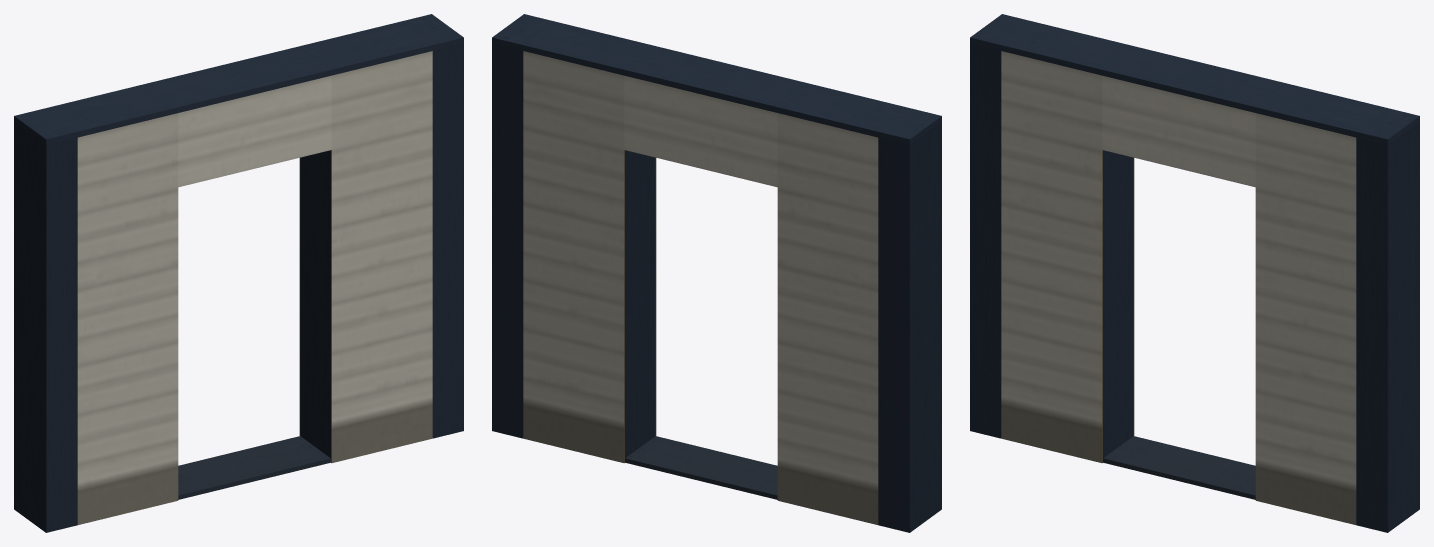
Rendered from house_05_wall_doorway.glb.
3 views of the same model, side by side, from view 1: azimuth 30°, elevation 25°; view 2: azimuth 150°, elevation 25°; view 3: azimuth 330°, elevation 25° (orthographic).
Parts seen in each view (by area): view 1: outdoor_house_05_wall_doorway; view 2: outdoor_house_05_wall_doorway; view 3: outdoor_house_05_wall_doorway.
Part boxes in pixels (x1,y1,x2,y2): outdoor_house_05_wall_doorway: (14,14,463,532); outdoor_house_05_wall_doorway: (492,14,941,532); outdoor_house_05_wall_doorway: (970,14,1419,532).
Size of the model in its own units: 3 by 2.7 by 0.4.
Materials: 1 (1 with a texture image).
